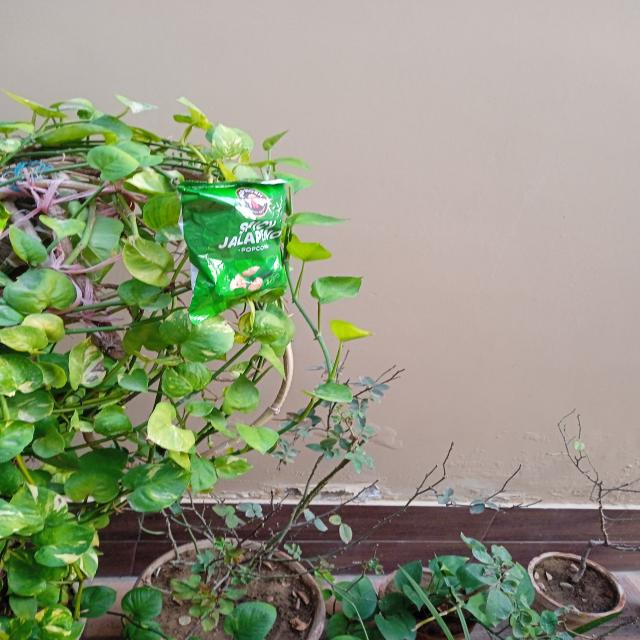Plastic: (176, 176, 302, 316)
